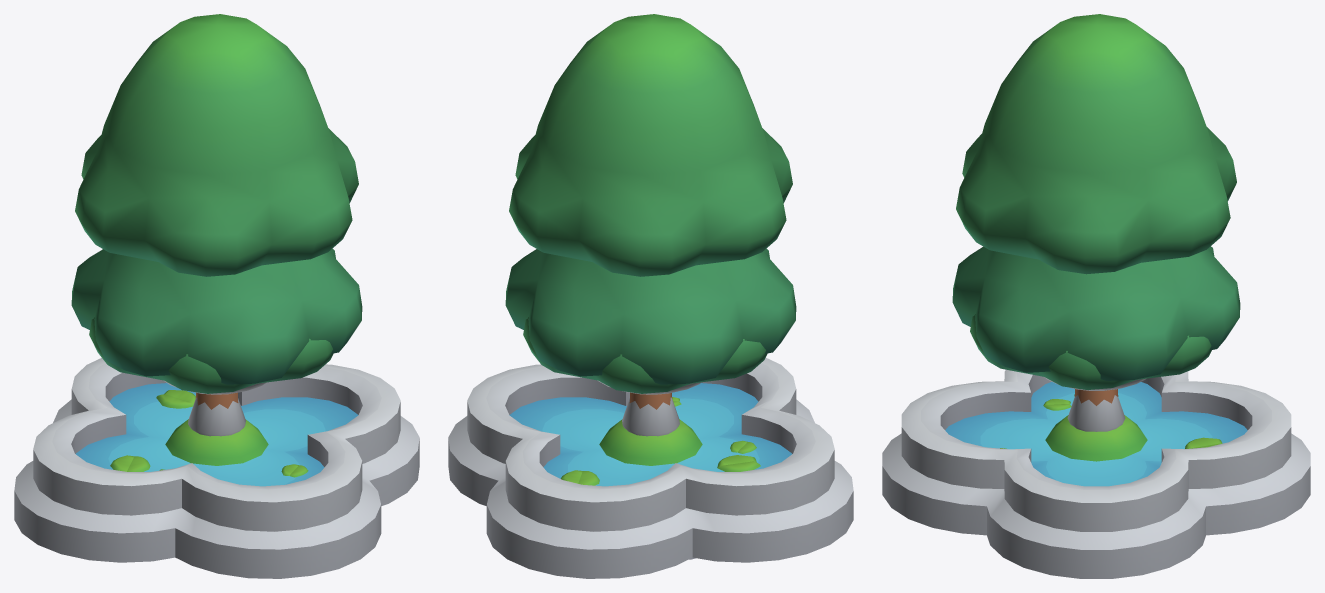
The model's file is terrain.glb.
The picture shows the model from 3 angles, left to right: view 1: azimuth 30°, elevation 25°; view 2: azimuth 150°, elevation 25°; view 3: azimuth 270°, elevation 25°; orthographic projection.
Visible parts, largest first — view 1: tree_large, fountain, fountain_water, tree, bush_large, fountain_leaves; view 2: tree_large, fountain, fountain_water, tree, bush_large, fountain_leaves; view 3: tree_large, fountain, fountain_water, tree, bush_large, fountain_leaves.
Boxes of the visible parts, x1=… form: tree_large: x1=71, y1=14, x2=362, y2=409; fountain: x1=14, y1=358, x2=419, y2=578; fountain_water: x1=76, y1=383, x2=358, y2=486; tree: x1=89, y1=317, x2=333, y2=393; bush_large: x1=165, y1=419, x2=268, y2=465; fountain_leaves: x1=110, y1=390, x2=308, y2=477; tree_large: x1=505, y1=14, x2=796, y2=409; fountain: x1=448, y1=358, x2=853, y2=578; fountain_water: x1=509, y1=383, x2=791, y2=486; tree: x1=523, y1=317, x2=767, y2=393; bush_large: x1=599, y1=419, x2=702, y2=465; fountain_leaves: x1=561, y1=397, x2=760, y2=485; tree_large: x1=952, y1=14, x2=1240, y2=405; fountain: x1=882, y1=369, x2=1310, y2=578; fountain_water: x1=945, y1=382, x2=1247, y2=486; tree: x1=970, y1=314, x2=1211, y2=389; bush_large: x1=1045, y1=415, x2=1147, y2=461; fountain_leaves: x1=1000, y1=394, x2=1222, y2=448.
Size of the model in its own units: 4 by 4.98 by 4.
Materials: 12 (12 with a texture image).
